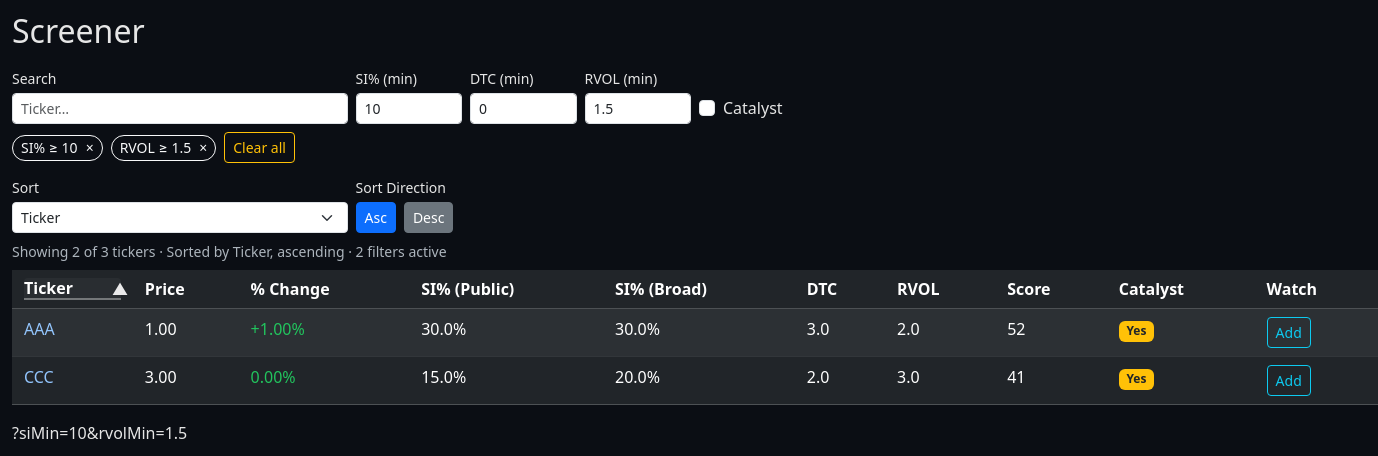
Test case: ScreenerPage toolbar › removing a chip resets the control, results and URL
Click the button with aria-label "Remove Short interest filter" at (57, 148), box [12,135,103,161]
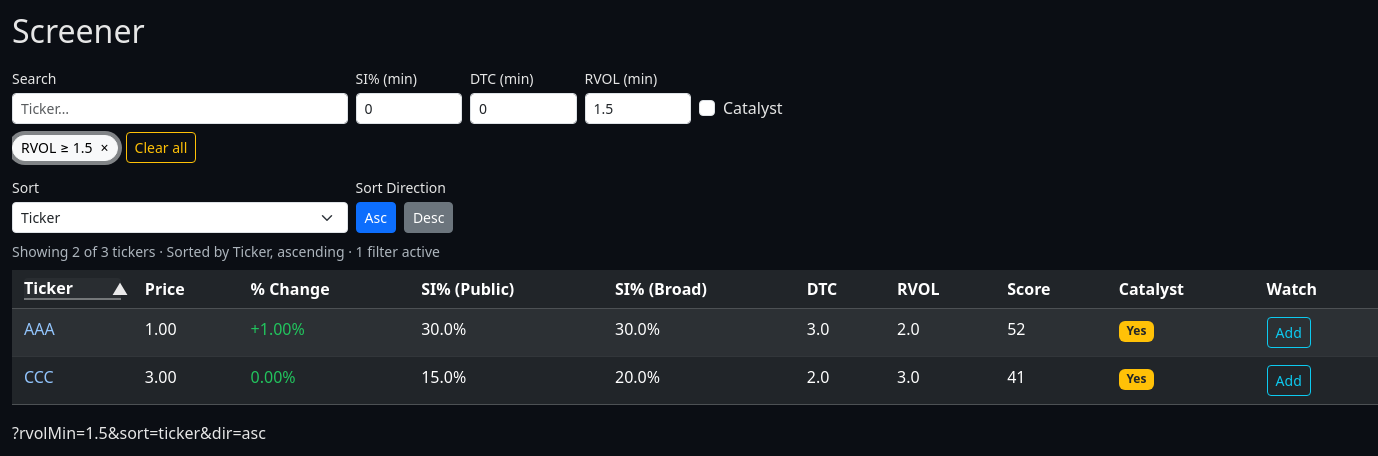
Expected: the number field labelled "SI% (min)" holds "0", [356,93,462,124]
Expected: the message reads "Showing 2 of 3 tickers · Sorted by Ticker, ascending · 1 filter active", [12,242,440,261]
